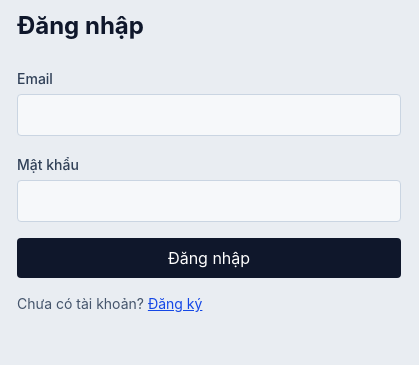
Login › shows a generic error when the server is unreachable
Type "a@b.com" into the field labelled "Email" at (209,115), box [17,94,401,136]
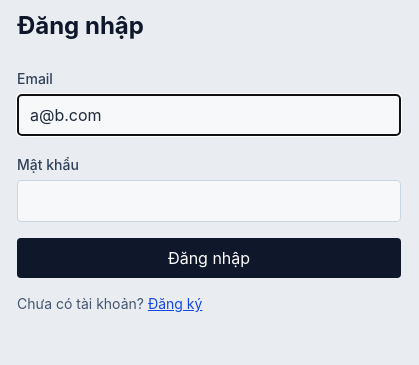
Type "password1" into the password field labelled "Mật khẩu" at (209,201), box [17,180,401,222]
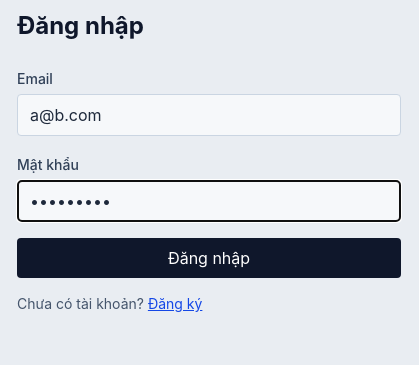
Click the button "Đăng nhập" at (209,258), box [17,238,401,278]
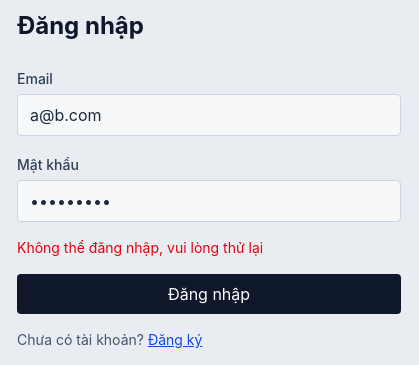
Check: the text "Không thể đăng nhập, vui lòng thử lại" is shown, box [17,239,263,256]
